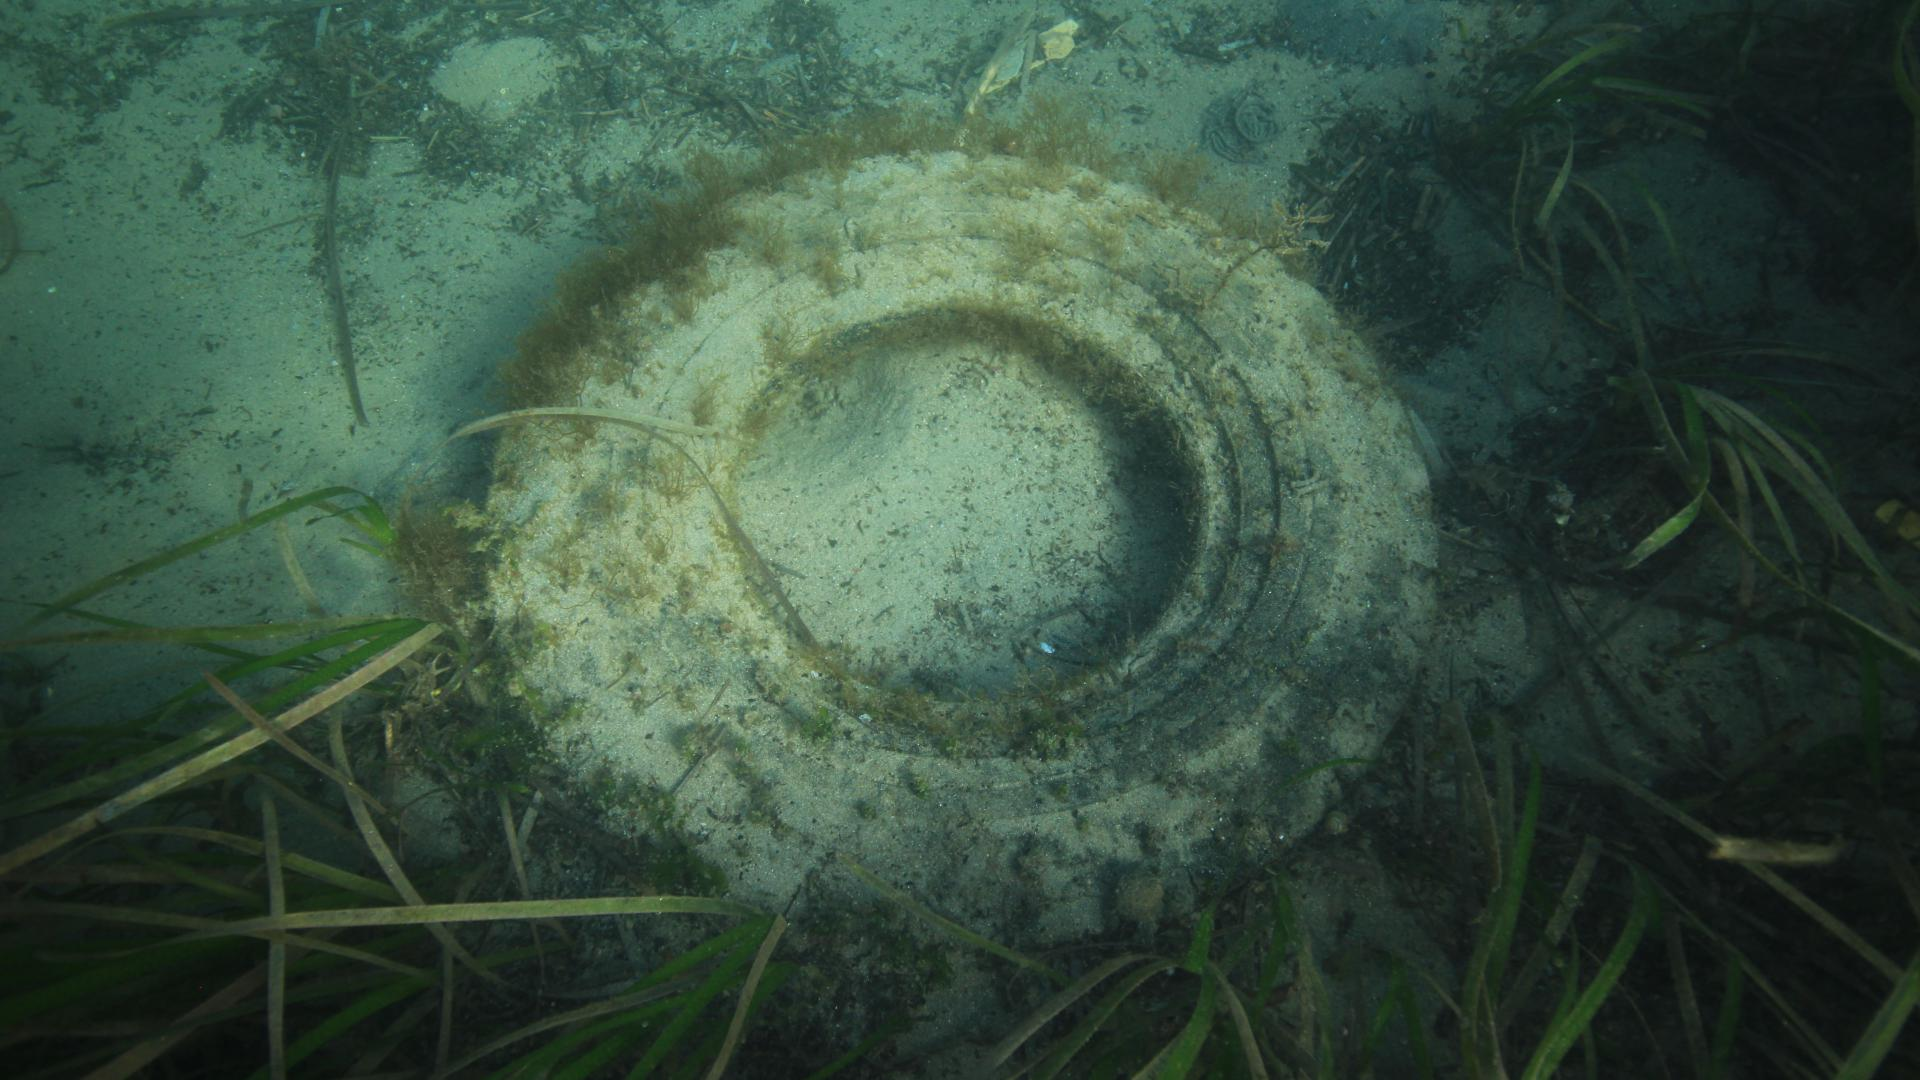tire: (479, 146, 1439, 953)
